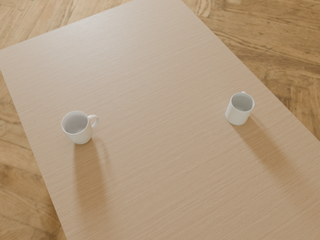cup: (61, 111, 99, 144), (225, 91, 254, 125)
